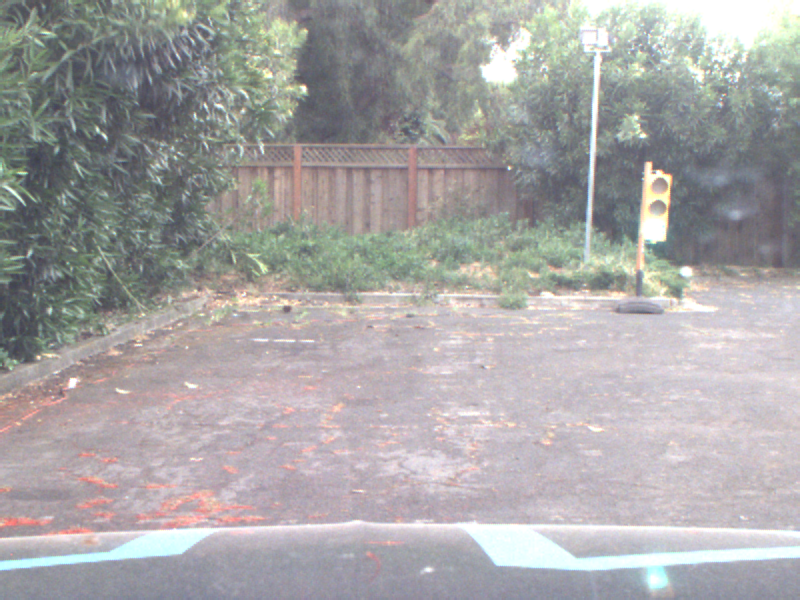Green: (643, 173, 667, 243)
